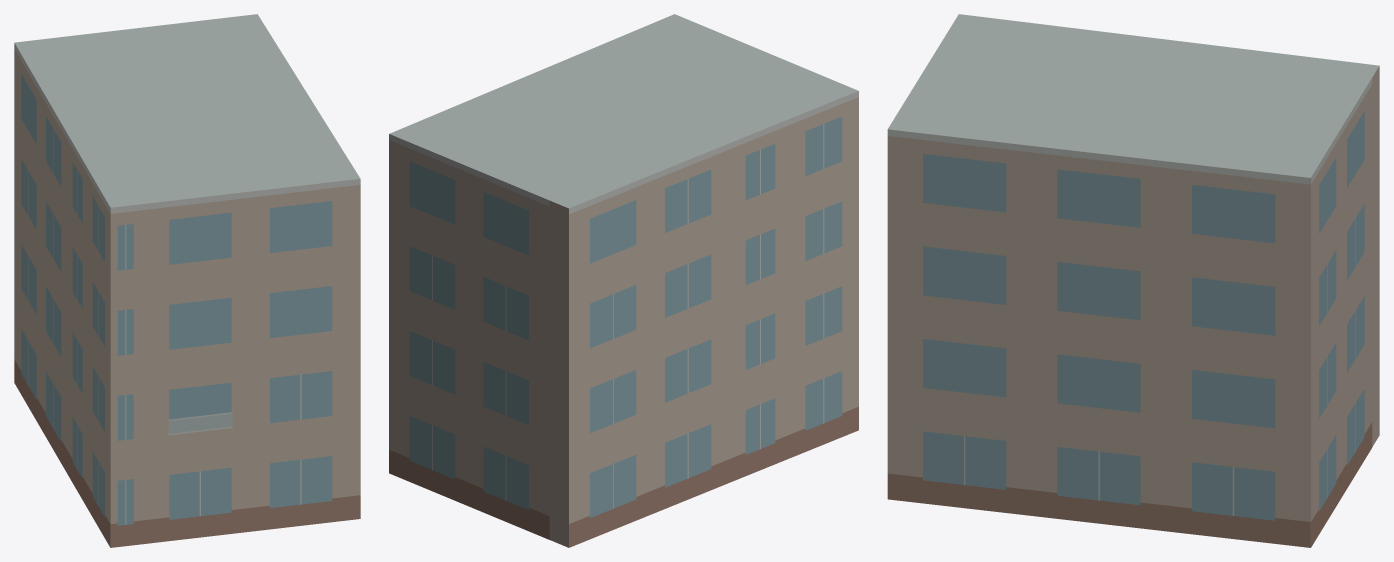
File: survey-upis-32847462.glb
3 views of the same model, side by side, from view 1: azimuth 30°, elevation 25°; view 2: azimuth 150°, elevation 25°; view 3: azimuth 270°, elevation 25° (orthographic). The views are drawn at different scales.
Visible parts, largest first — view 1: survey-upis-32847462.tmp; view 2: survey-upis-32847462.tmp; view 3: survey-upis-32847462.tmp.
Boxes of the visible parts, x1=… form: survey-upis-32847462.tmp: x1=14, y1=14, x2=360, y2=547; survey-upis-32847462.tmp: x1=389, y1=14, x2=858, y2=547; survey-upis-32847462.tmp: x1=887, y1=14, x2=1379, y2=547.
Bounding box in the file's own units: 13.03 × 13.7 × 16.52.
